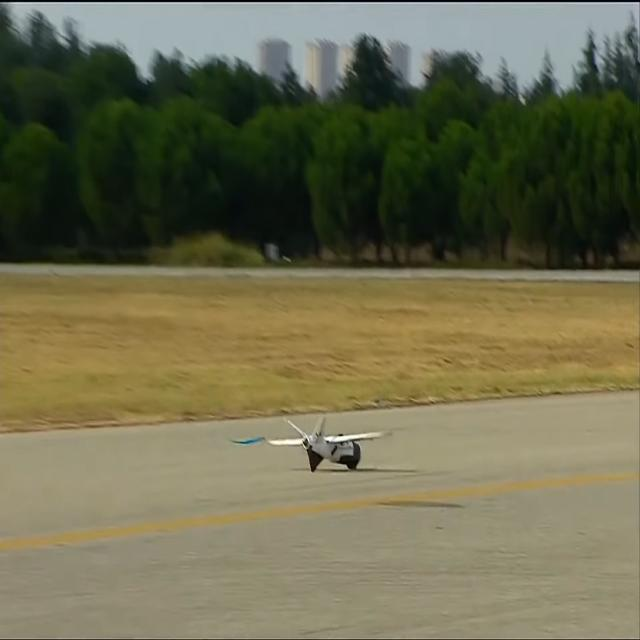iha: (294, 417, 354, 475)
